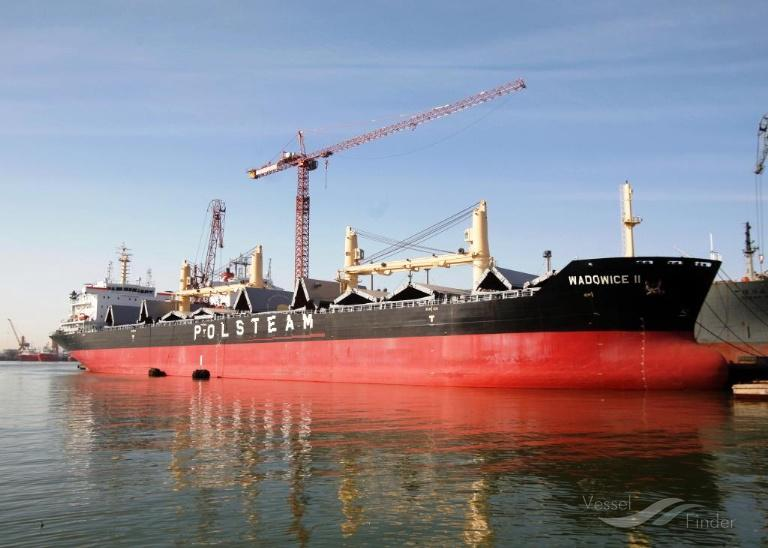OCR: (184, 314, 325, 344), (564, 266, 657, 291)
